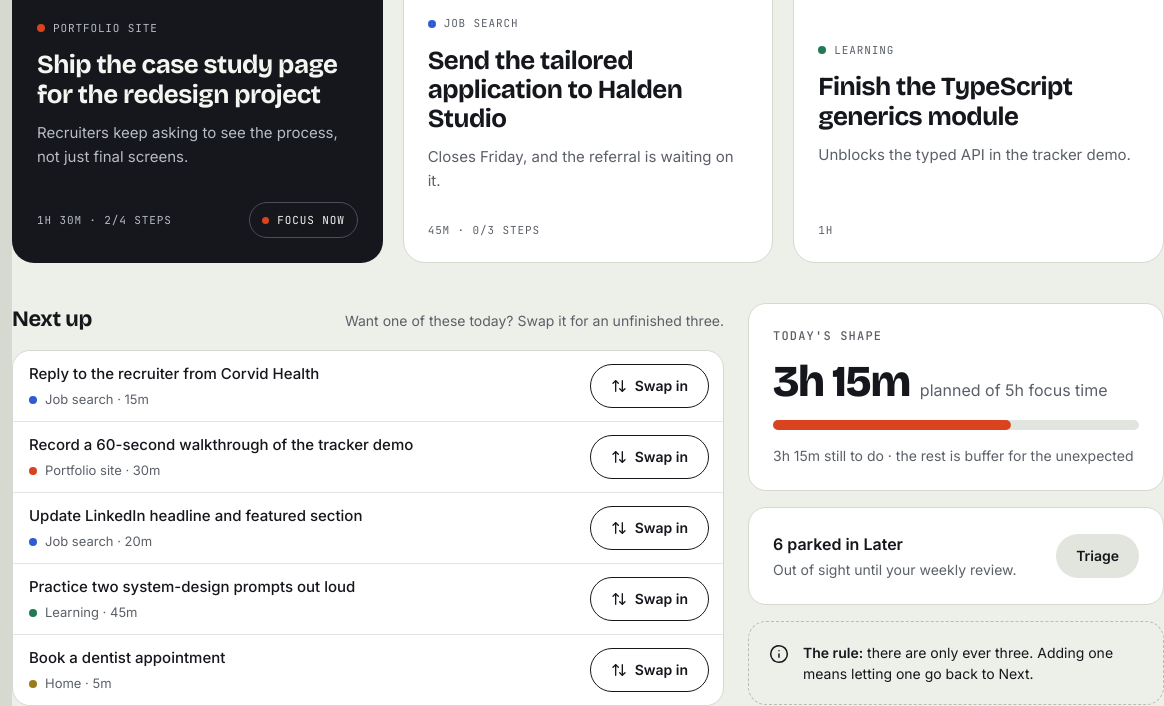
it: Today › swaps a Next task in for the last unfinished priority
(page scrolled)
Click the button named "Swap into the three: Reply to the recruiter from Corvid Health" at {"x": 649, "y": 386}, box [590,364,709,408]
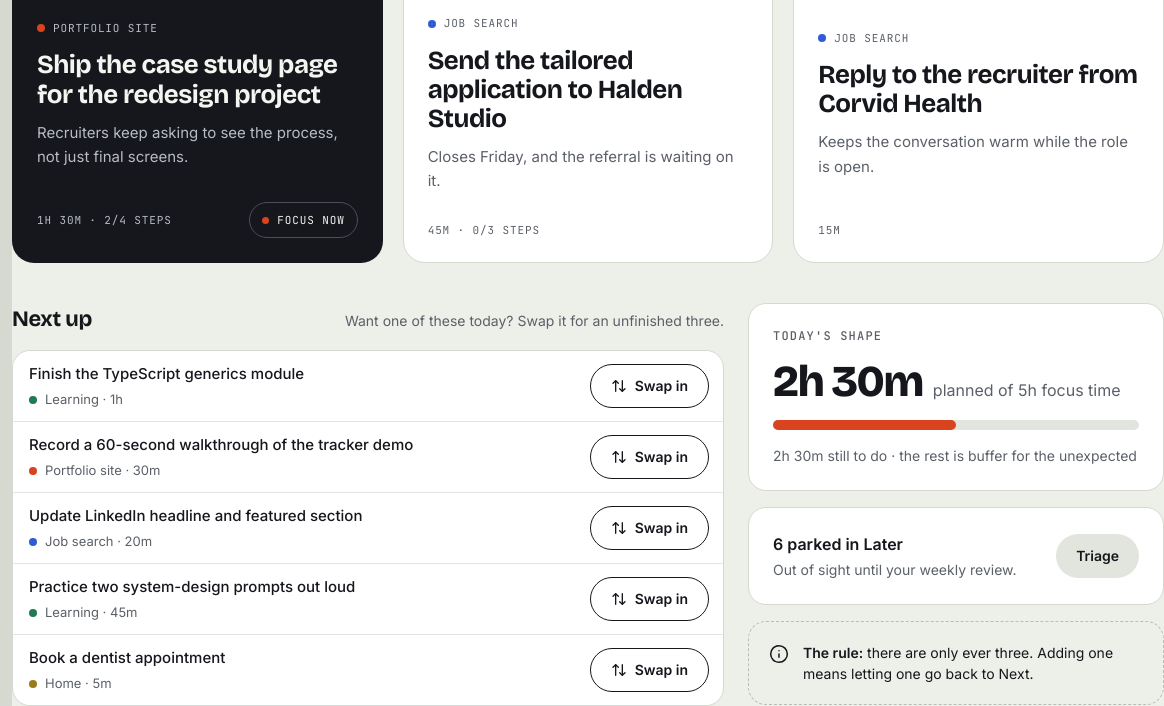
Expected: the text "Finish the TypeScript generics module" is shown, [29,364,304,383]
